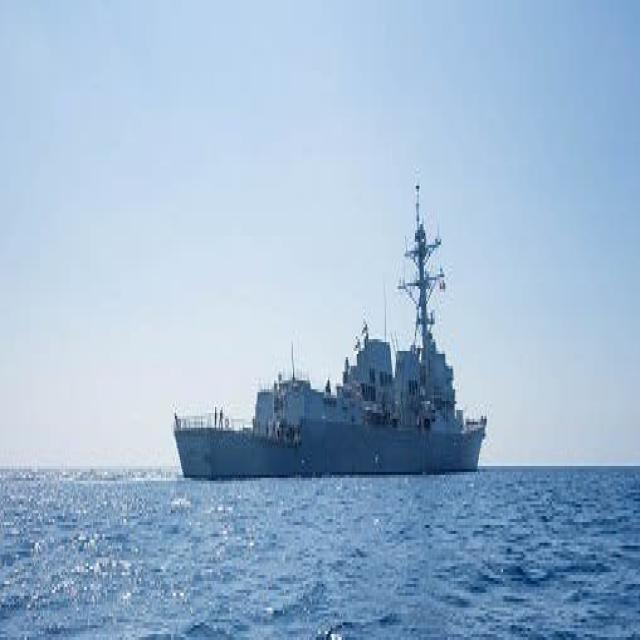navalvessels: (164, 170, 490, 495)
